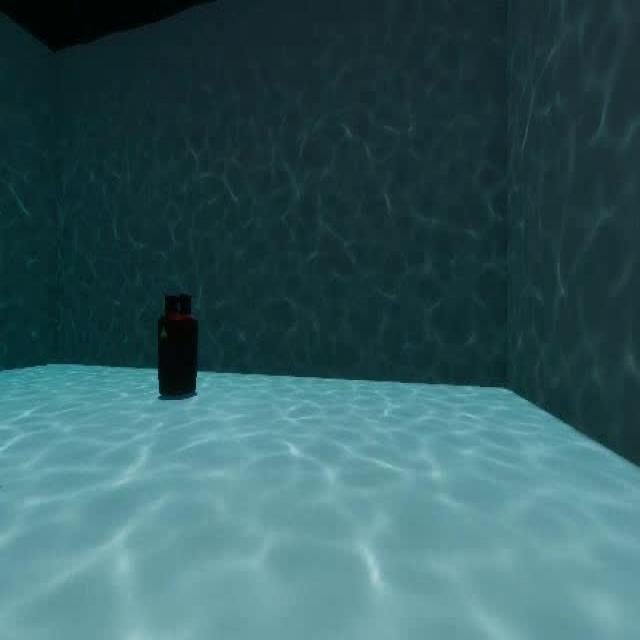Cylinder: (150, 278, 207, 412)
